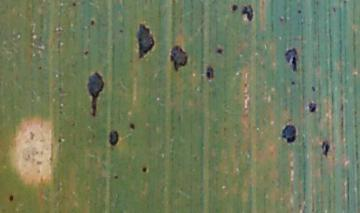tarspot: (87, 73, 105, 117), (137, 22, 154, 59), (169, 45, 188, 71), (284, 48, 298, 72), (281, 124, 296, 143), (241, 4, 254, 22), (109, 128, 119, 147), (204, 65, 215, 81), (320, 141, 330, 157), (307, 102, 317, 113), (215, 47, 224, 55), (309, 84, 317, 93), (231, 3, 238, 13), (128, 122, 135, 131), (141, 166, 148, 175), (331, 4, 337, 14), (9, 194, 15, 202), (296, 7, 302, 15), (90, 19, 96, 26), (290, 79, 296, 86), (113, 173, 119, 180), (118, 27, 124, 34), (72, 1, 77, 8), (84, 49, 89, 56), (37, 66, 44, 71)
